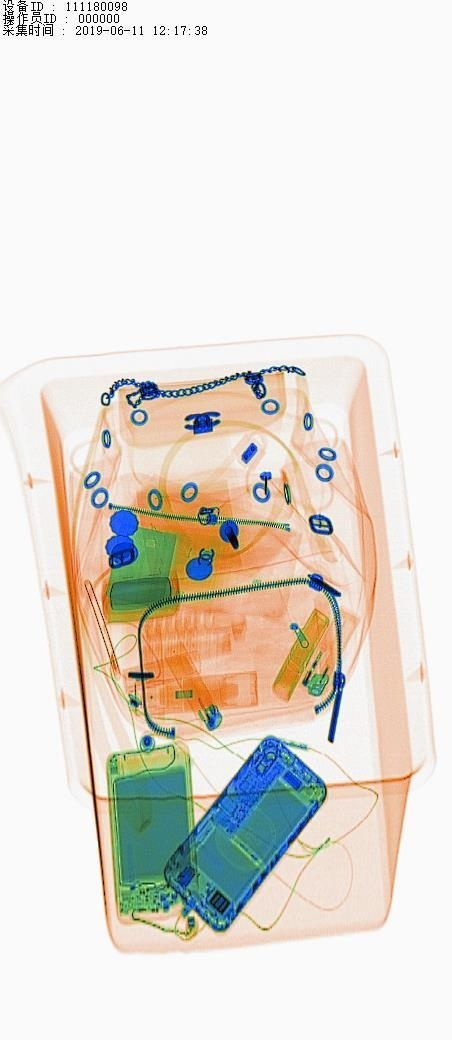NonmetallicFire: (293, 592, 390, 700), (154, 637, 240, 739)
